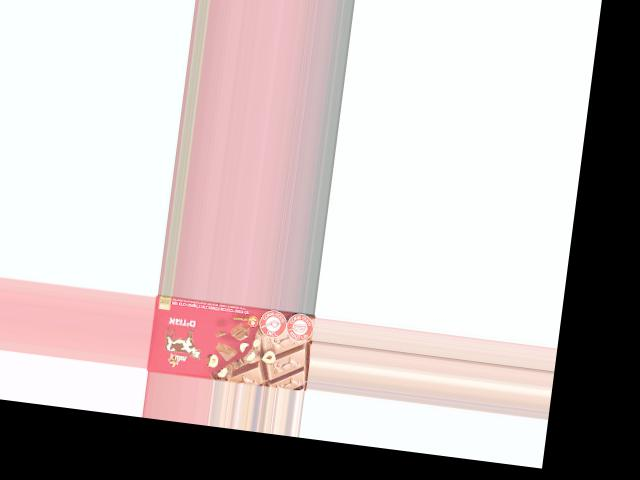chocolate: (146, 296, 314, 390)
